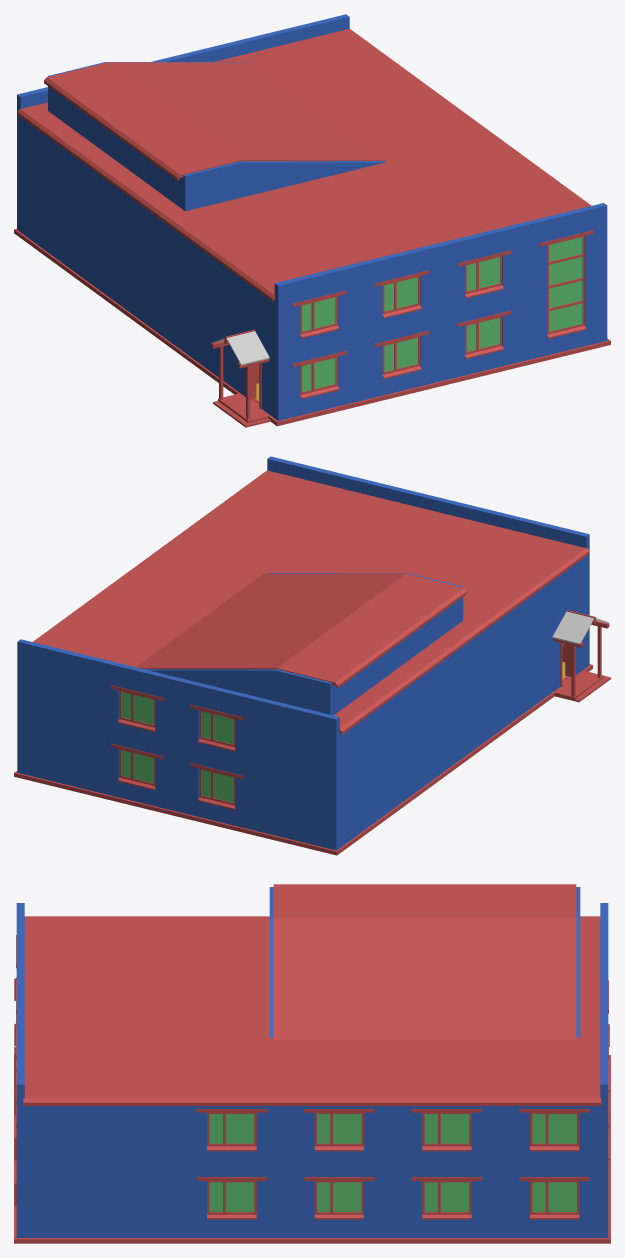
Rendered from SM_building.fbx.
3 renders of one model, top to bottom at view 1: azimuth 30°, elevation 25°; view 2: azimuth 150°, elevation 25°; view 3: azimuth 270°, elevation 25°, orthographic. The views are drawn at different scales.
Visible parts, largest first — view 1: lvl2, lvl, lvl1; view 2: lvl2, lvl, lvl1; view 3: lvl2, lvl, lvl1.
Part boxes in pixels (left/top/right/bottom): lvl2: left=17, top=14, right=607, bottom=301; lvl: left=14, top=170, right=610, bottom=427; lvl1: left=17, top=109, right=278, bottom=360; lvl2: left=17, top=456, right=589, bottom=734; lvl: left=14, top=607, right=610, bottom=855; lvl1: left=17, top=549, right=589, bottom=792; lvl2: left=16, top=884, right=608, bottom=1105; lvl: left=14, top=935, right=610, bottom=1243; lvl1: left=16, top=980, right=609, bottom=1169.
Size of the model in its own units: 1756 by 758 by 2220.
